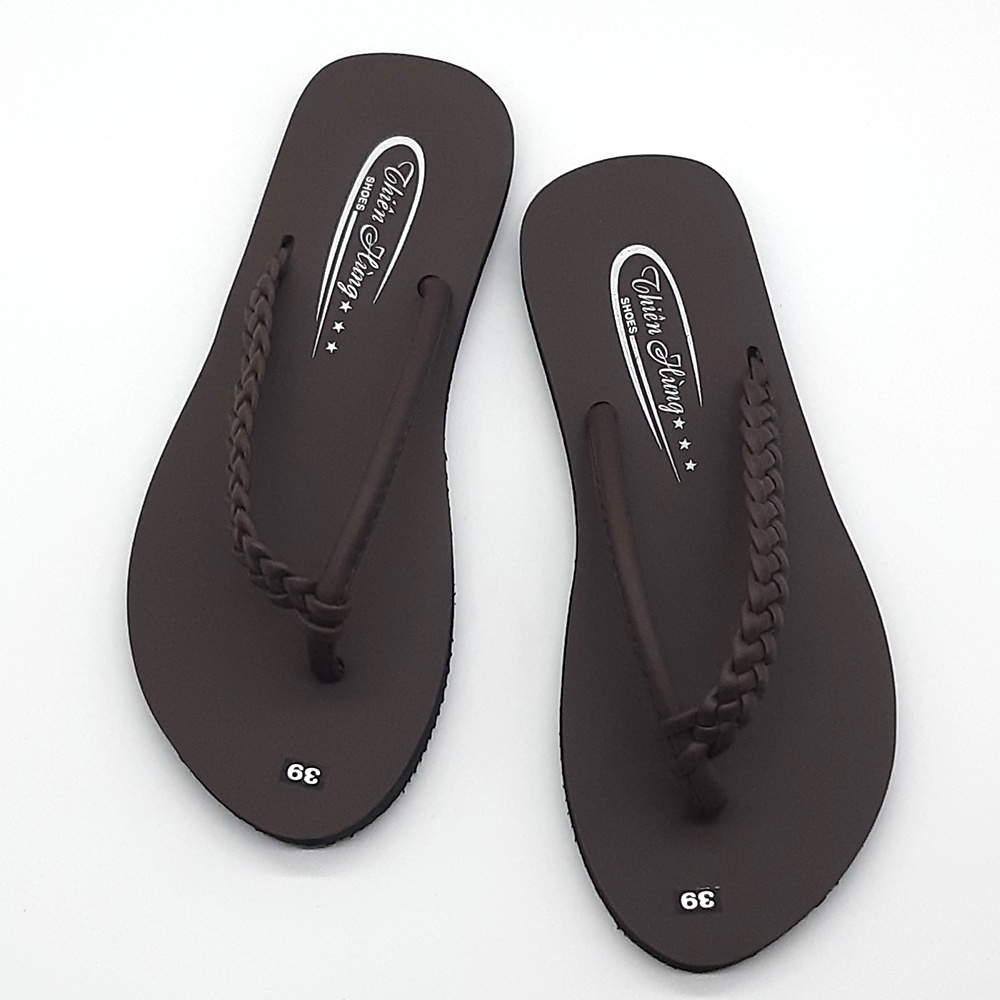flip_flops: (124, 53, 518, 849), (520, 155, 900, 973)
